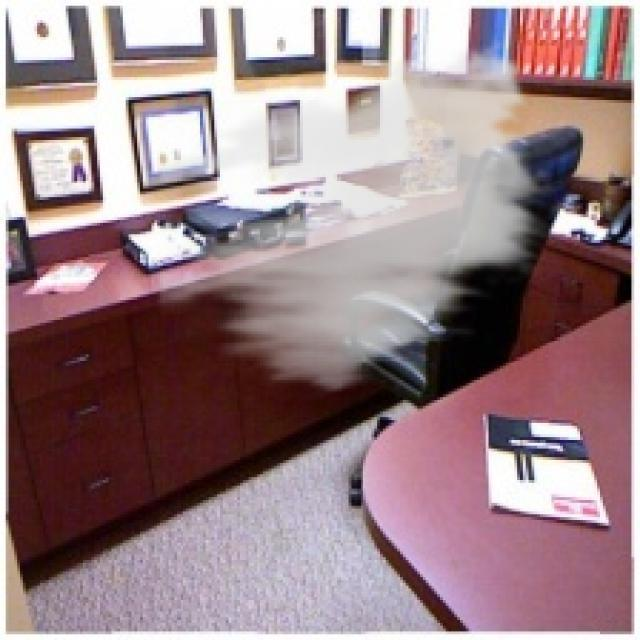Smoke: (157, 31, 557, 403)
